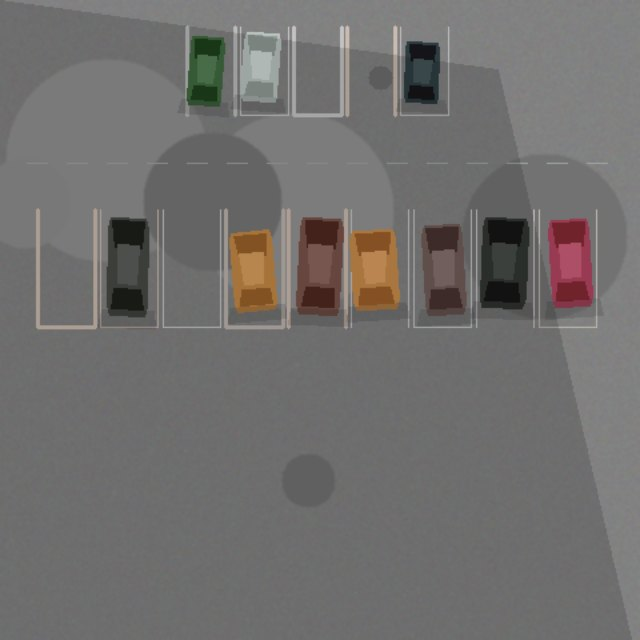space-empty: (37, 209, 95, 327), (163, 209, 220, 327), (293, 27, 341, 115), (347, 27, 395, 115)
space-occupied: (225, 209, 283, 327), (413, 209, 471, 327), (100, 209, 157, 327), (288, 209, 345, 327), (351, 209, 408, 327), (476, 209, 533, 327), (539, 209, 596, 327), (187, 27, 235, 115), (240, 27, 288, 115), (400, 27, 448, 115)
